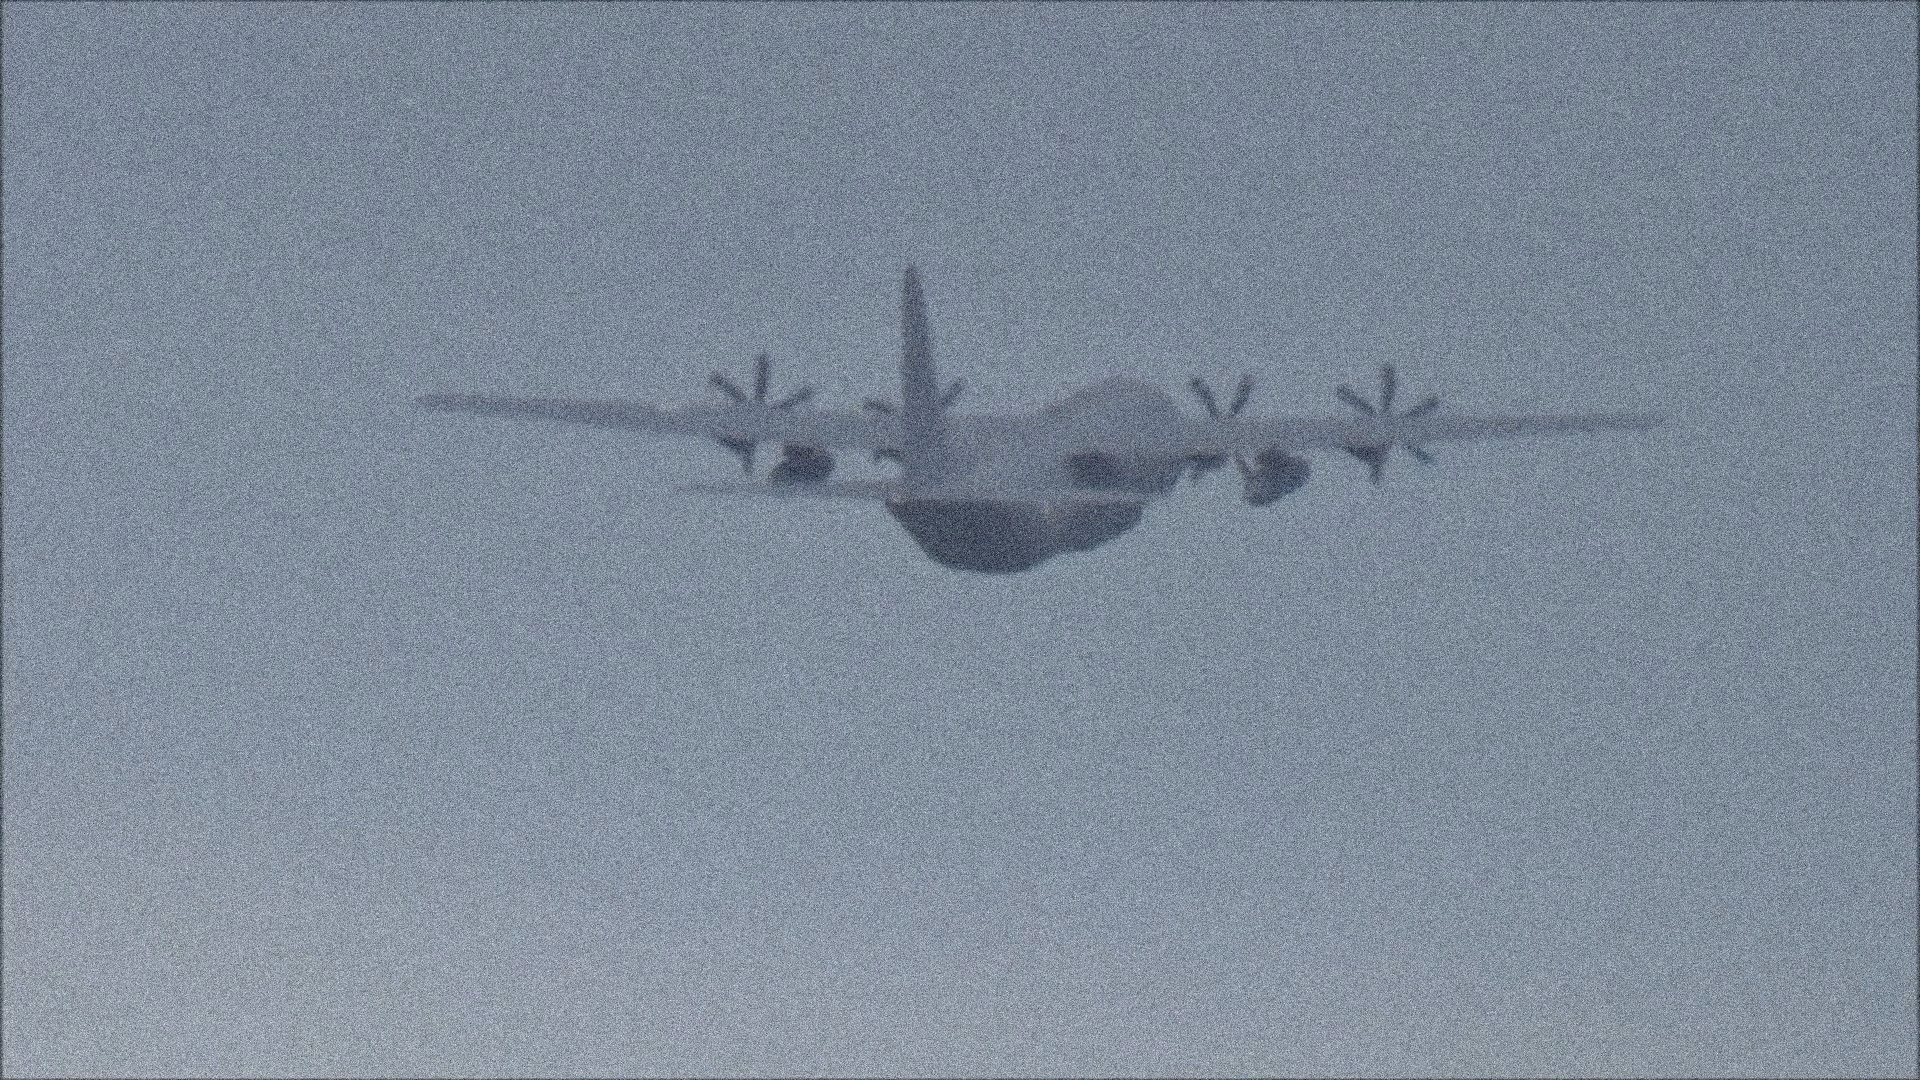Airplane: (421, 261, 1664, 574)
